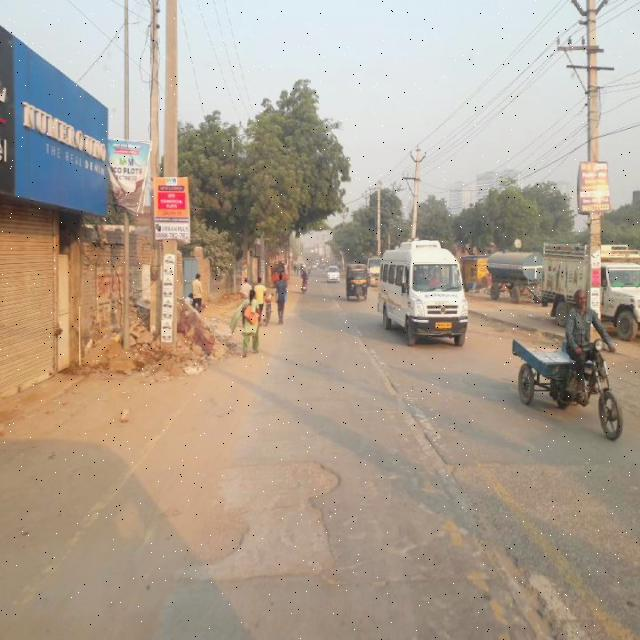D40: (209, 448, 351, 590)
